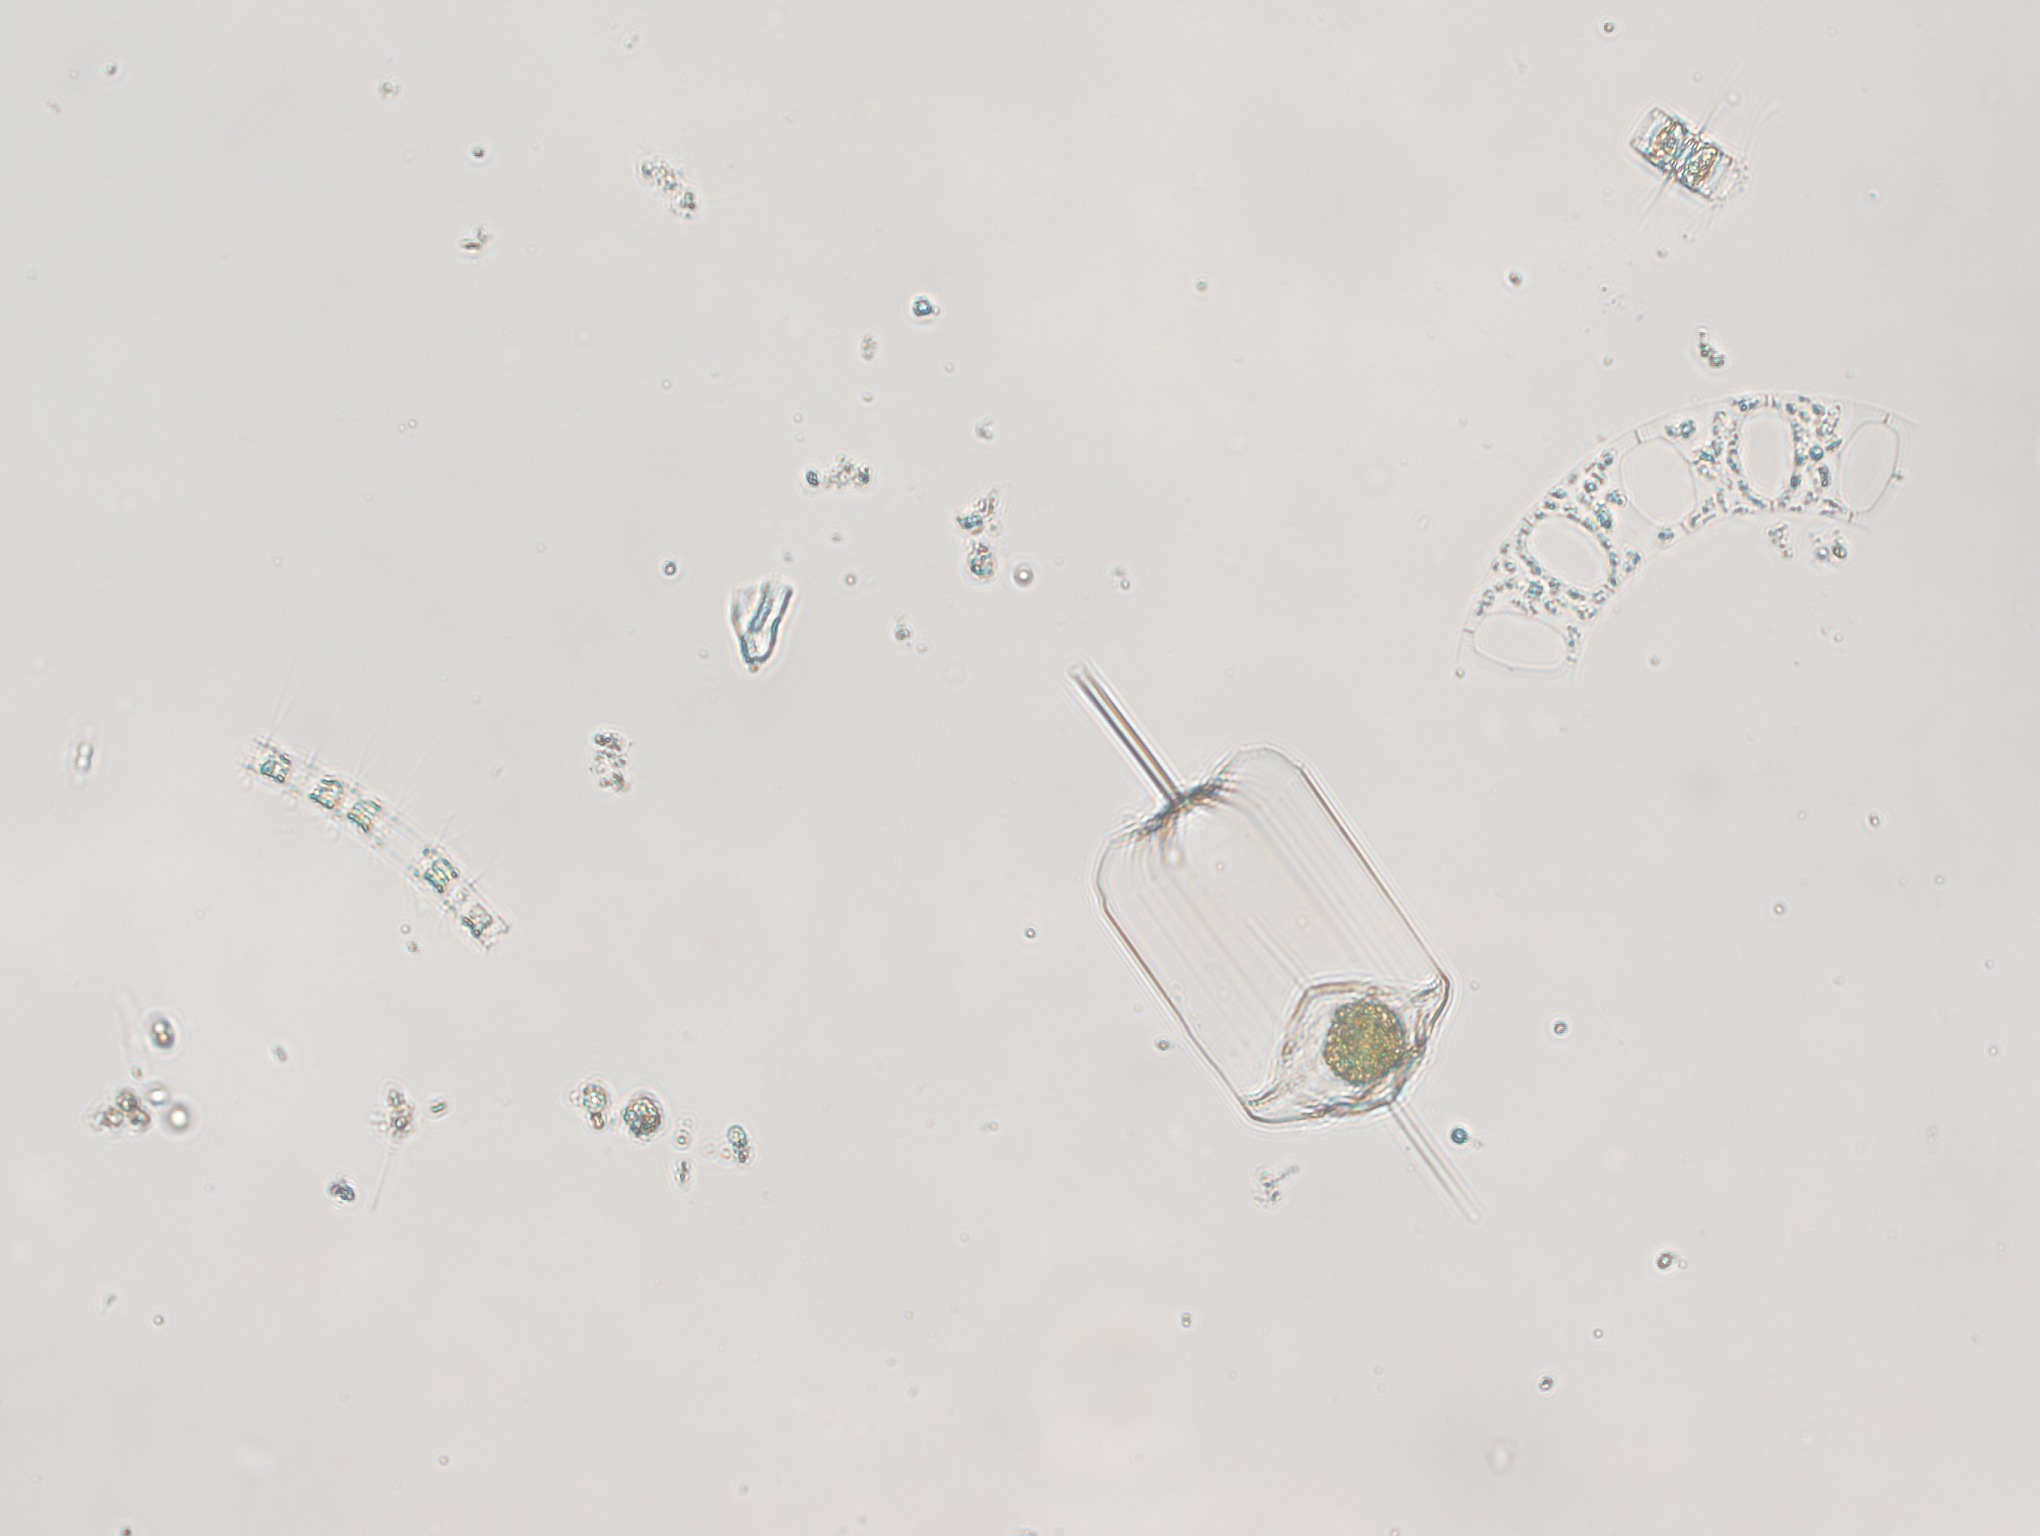chaetoceros: (224, 700, 527, 965), (1605, 77, 1764, 244)
ditylum: (1039, 657, 1493, 1223)
eucampia: (1422, 382, 1971, 695)
